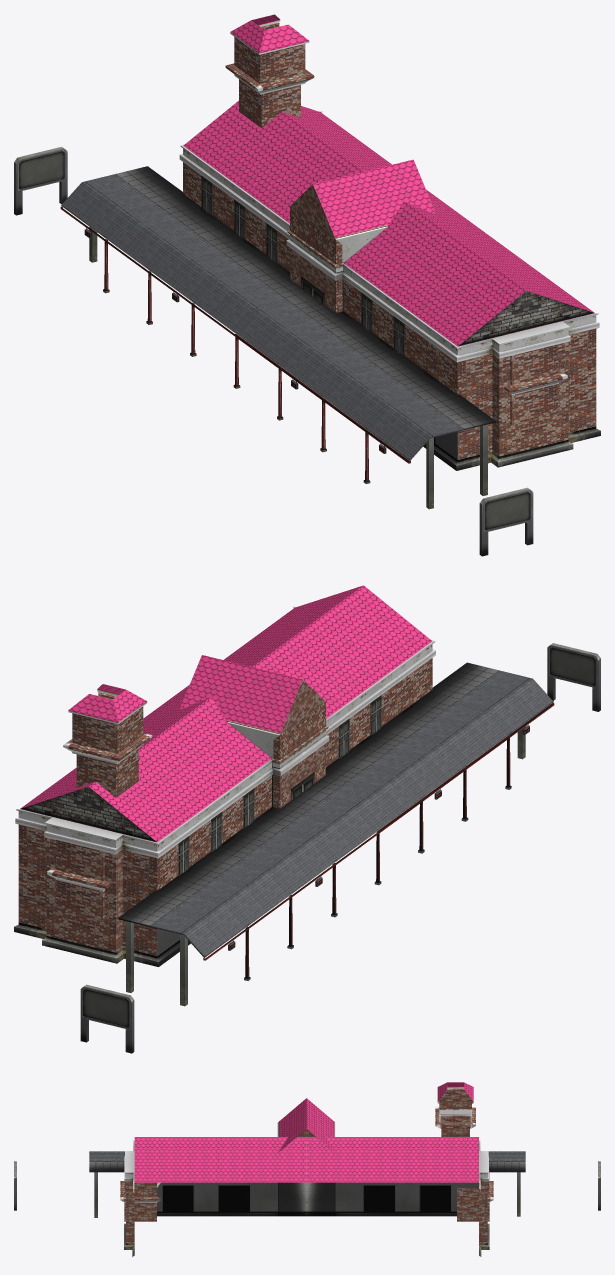
File: stations_n.fbx
3 views of the same model, one above another, from view 1: azimuth 30°, elevation 25°; view 2: azimuth 150°, elevation 25°; view 3: azimuth 270°, elevation 25° (orthographic). The views are drawn at different scales.
Visible parts, largest first — view 1: polySurface51; view 2: polySurface51; view 3: polySurface51.
Part boxes in pixels (x1=…): polySurface51: x1=14, y1=14, x2=600, y2=556; polySurface51: x1=14, y1=585, x2=600, y2=1053; polySurface51: x1=14, y1=1082, x2=600, y2=1256.
Bounding box in the file's own units: 2707 × 2789 × 9669.
